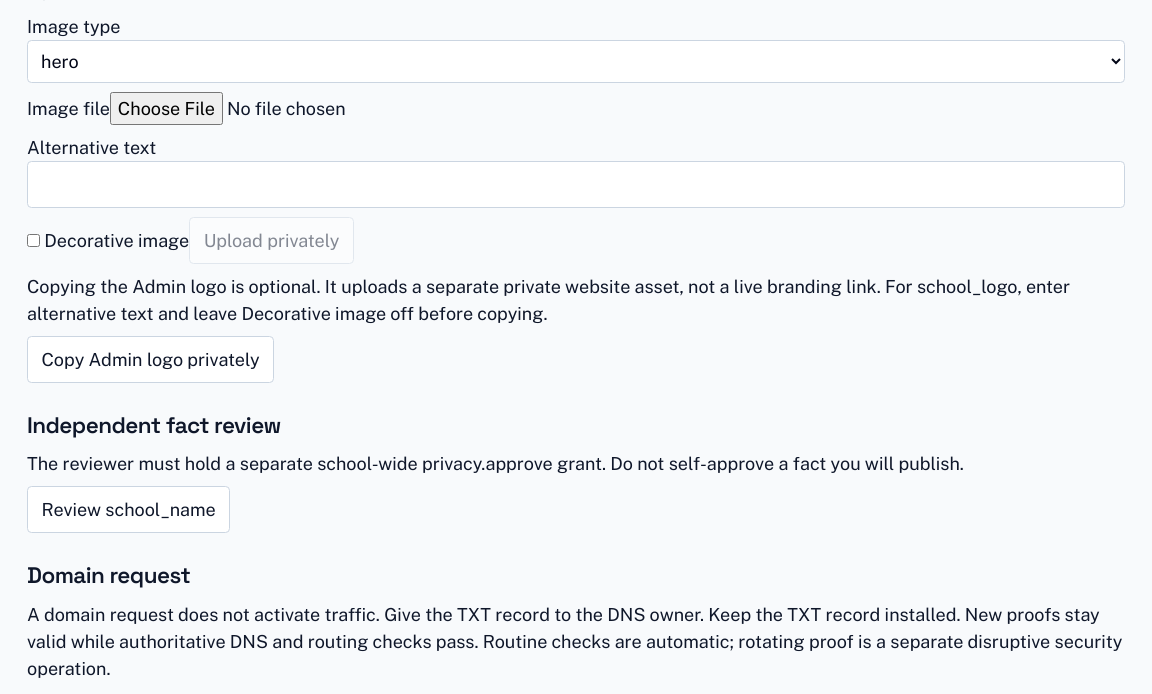
Test: does not fetch an Admin logo on view or copy a different school's branding
(page scrolled)
Click the button "Copy Admin logo privately" at (151, 359), box [27,336,274,382]
(page scrolled)
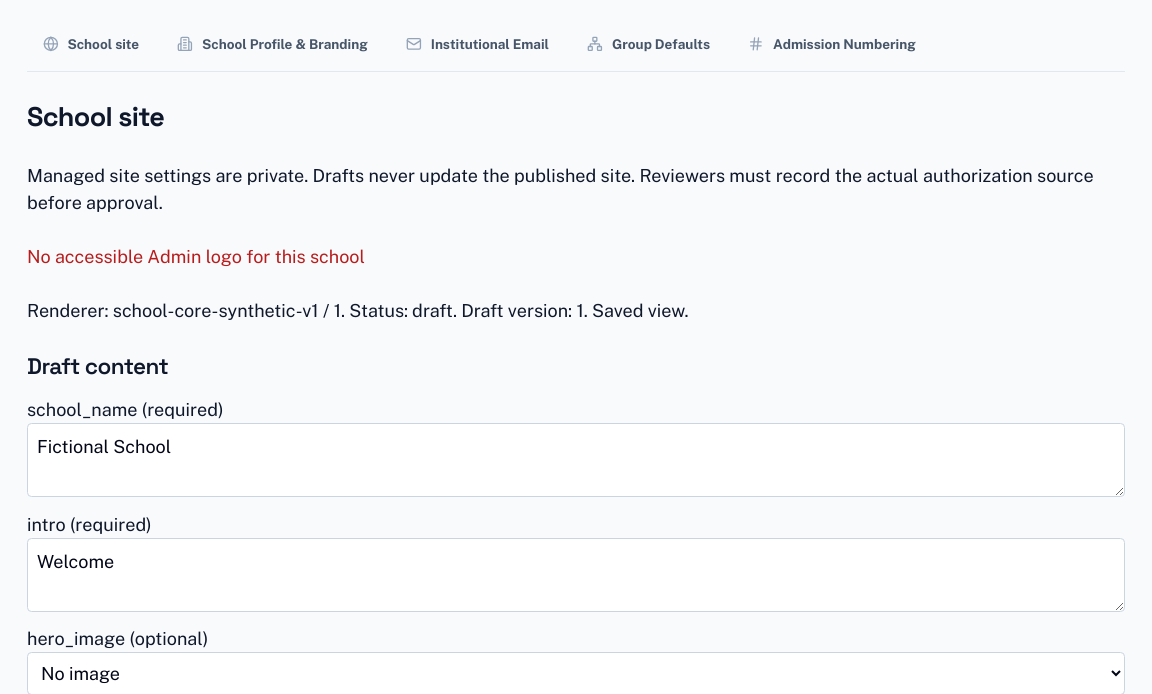
Expected: the message reads "No accessible Admin logo for this school", [27,246,365,267]
